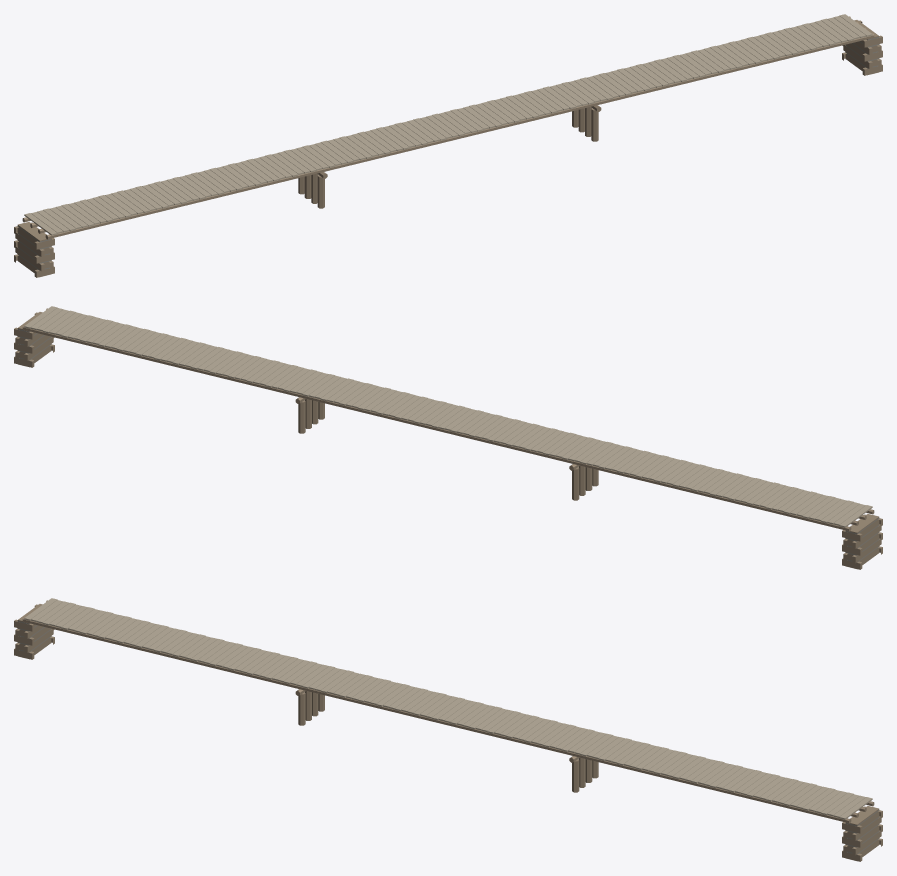
File: south_branch_raft_bridge__log_1833.glb
The picture shows the model from 3 angles, top to bottom: view 1: azimuth 30°, elevation 25°; view 2: azimuth 150°, elevation 25°; view 3: azimuth 330°, elevation 25°; orthographic projection.
Visible parts, largest first — view 1: south_branch_raft_bridge__log_1833; view 2: south_branch_raft_bridge__log_1833; view 3: south_branch_raft_bridge__log_1833.
Boxes of the visible parts, box(x1,y1,x2,y2) form: south_branch_raft_bridge__log_1833: box(14, 14, 882, 277); south_branch_raft_bridge__log_1833: box(14, 306, 882, 569); south_branch_raft_bridge__log_1833: box(14, 598, 882, 861).
Bounding box in the file's own units: 57.68 × 2.77 × 3.25.
